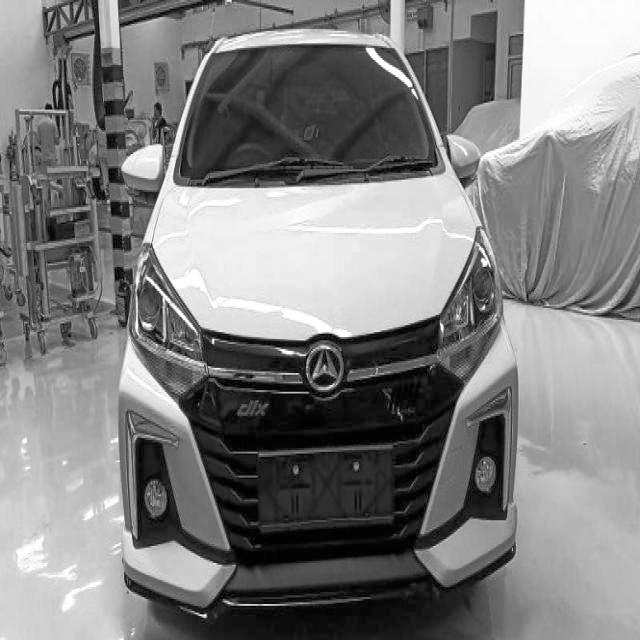Car: (118, 26, 522, 629)
